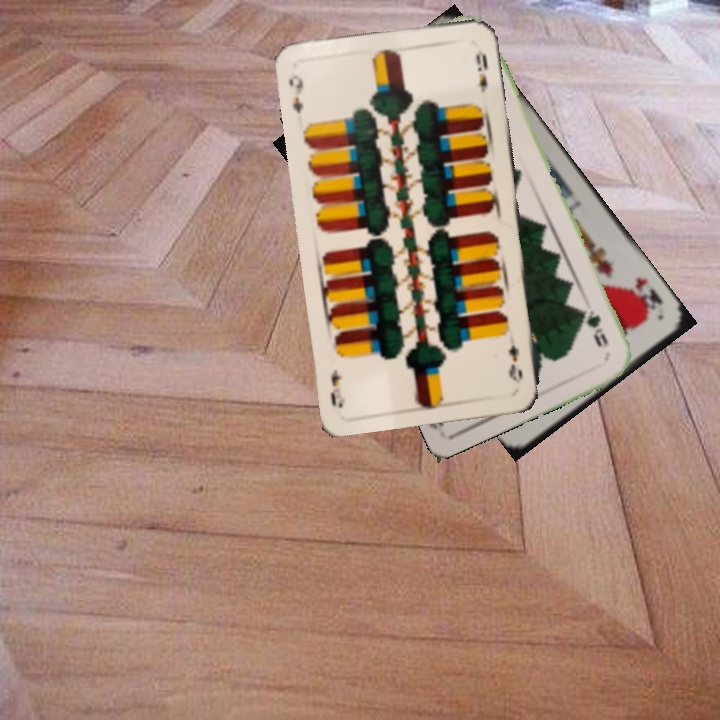E9: (285, 70, 306, 116), (504, 341, 525, 386)
G9: (578, 304, 611, 350)
HK: (627, 273, 666, 315)
